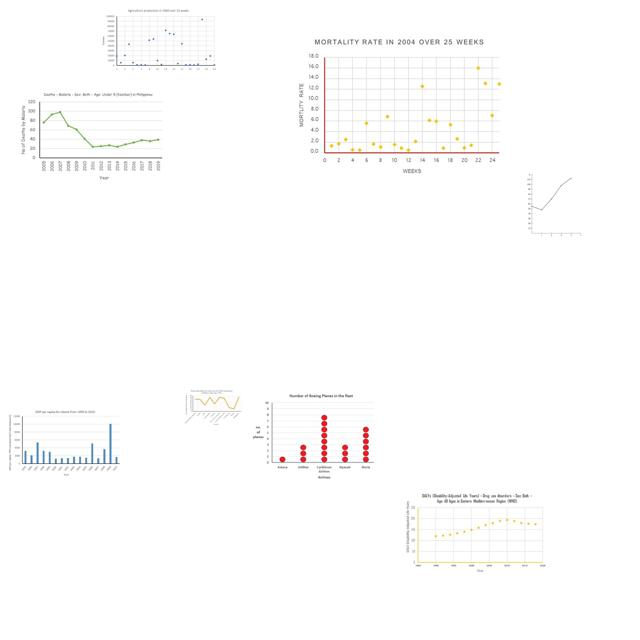Graph: (296, 36, 508, 183), (20, 90, 165, 183), (403, 491, 547, 575), (252, 393, 374, 480), (7, 409, 121, 477), (100, 8, 217, 72), (525, 172, 585, 238), (184, 389, 242, 426)
